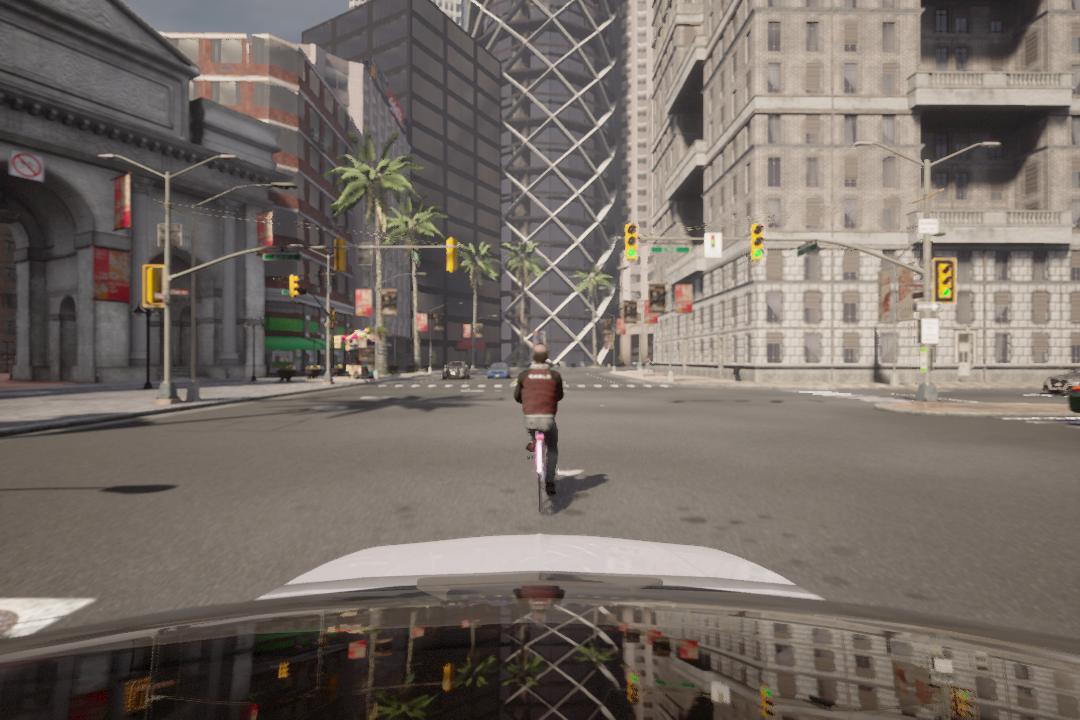TrafficLight: (937, 259, 955, 300), (625, 224, 640, 261), (751, 225, 765, 261)
TrafficSign: (12, 151, 44, 180)
walkside: (369, 381, 677, 391)
